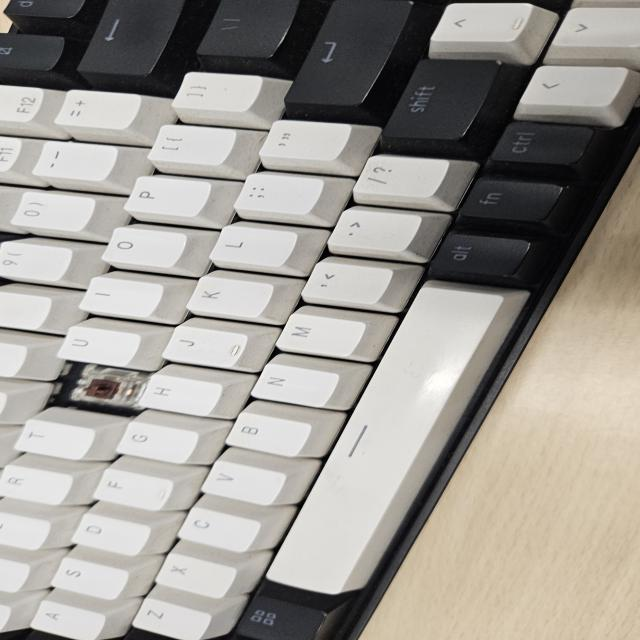C: (66, 371, 130, 408)
